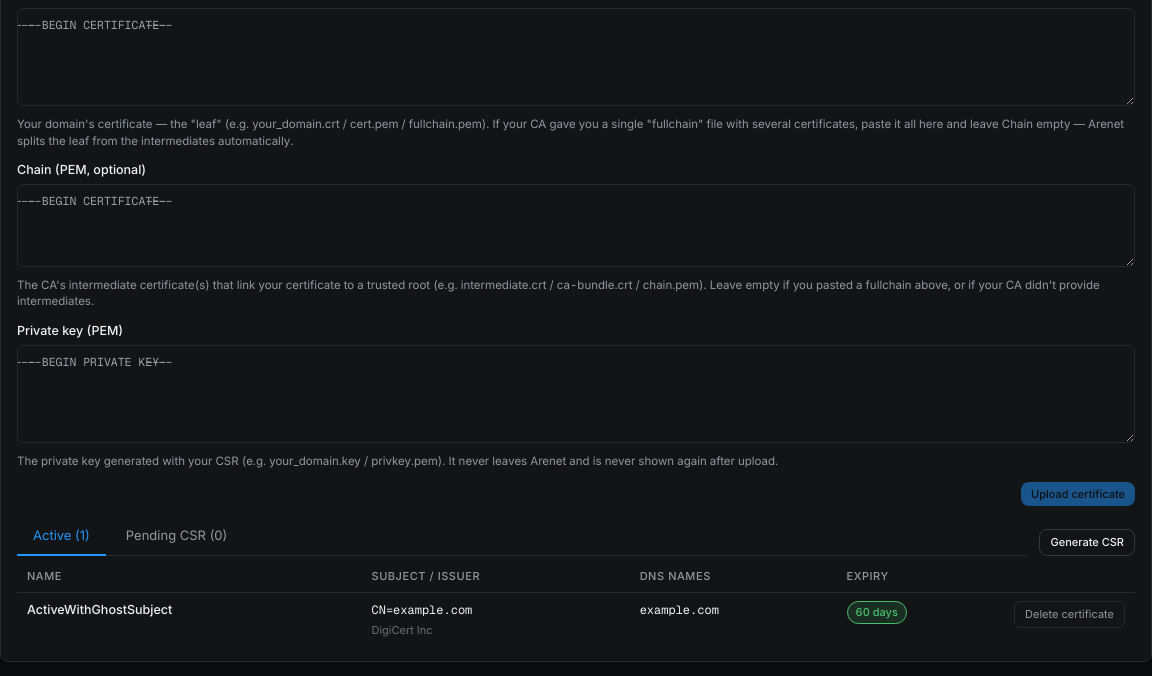
Test: ExternalCertsPanel — Active / Pending CSR tabs › treats an active row with an empty-looking csrSubject {} as Active, not Pending (the whole cross-task risk)
(page scrolled)
Check: the table with test id "external-certs-table" is shown, box [17,560,1135,647]
Check: the text "ActiveWithGhostSubject" is shown, box [27,602,172,617]
Step 1. Click the tab with test id "external-certs-tab-pending" → (177, 537), box [110,518,243,556]
(page scrolled)
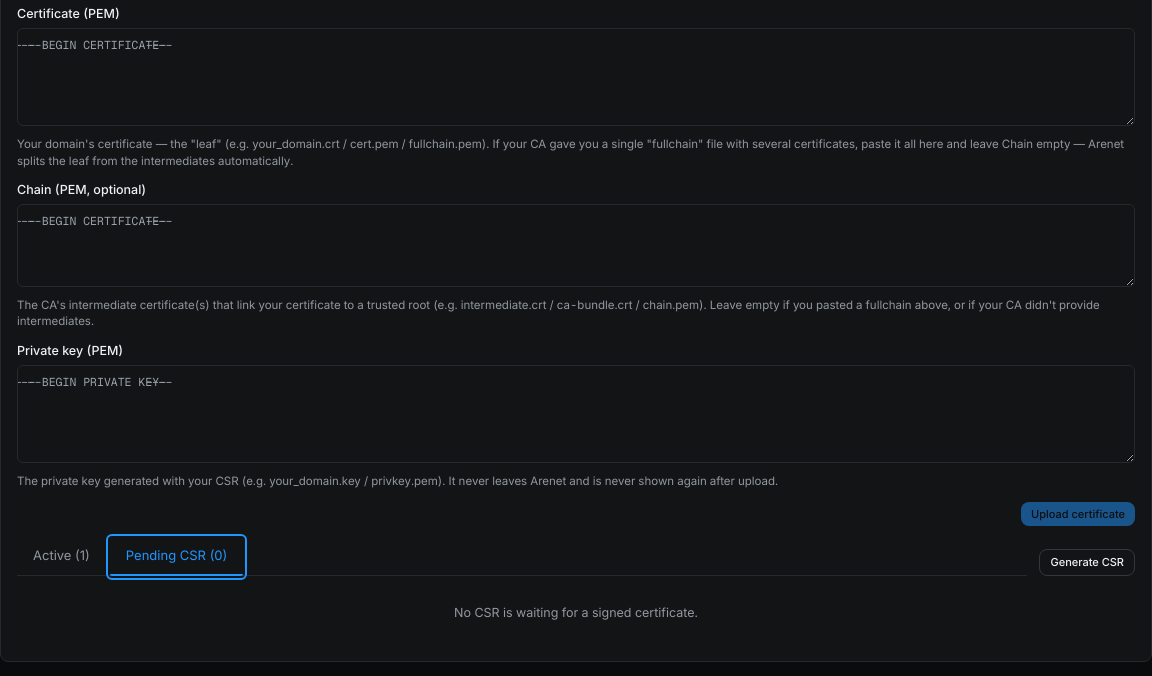
Check: the text "ActiveWithGhostSubject" is gone
